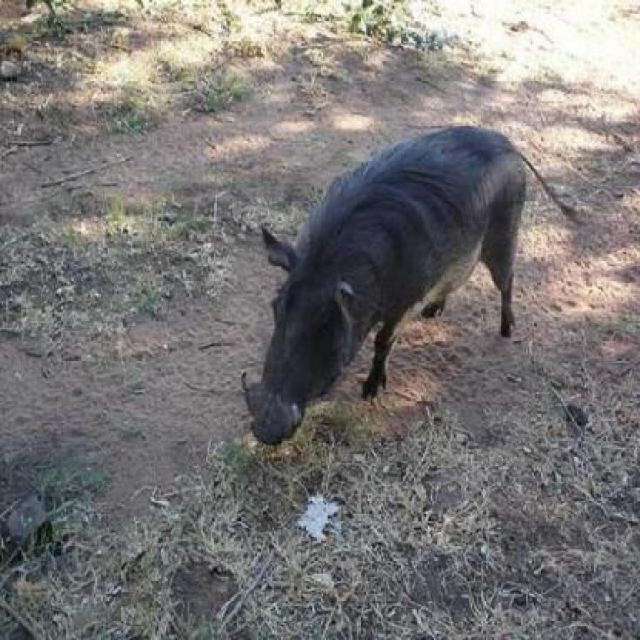pig: (222, 90, 569, 472)
